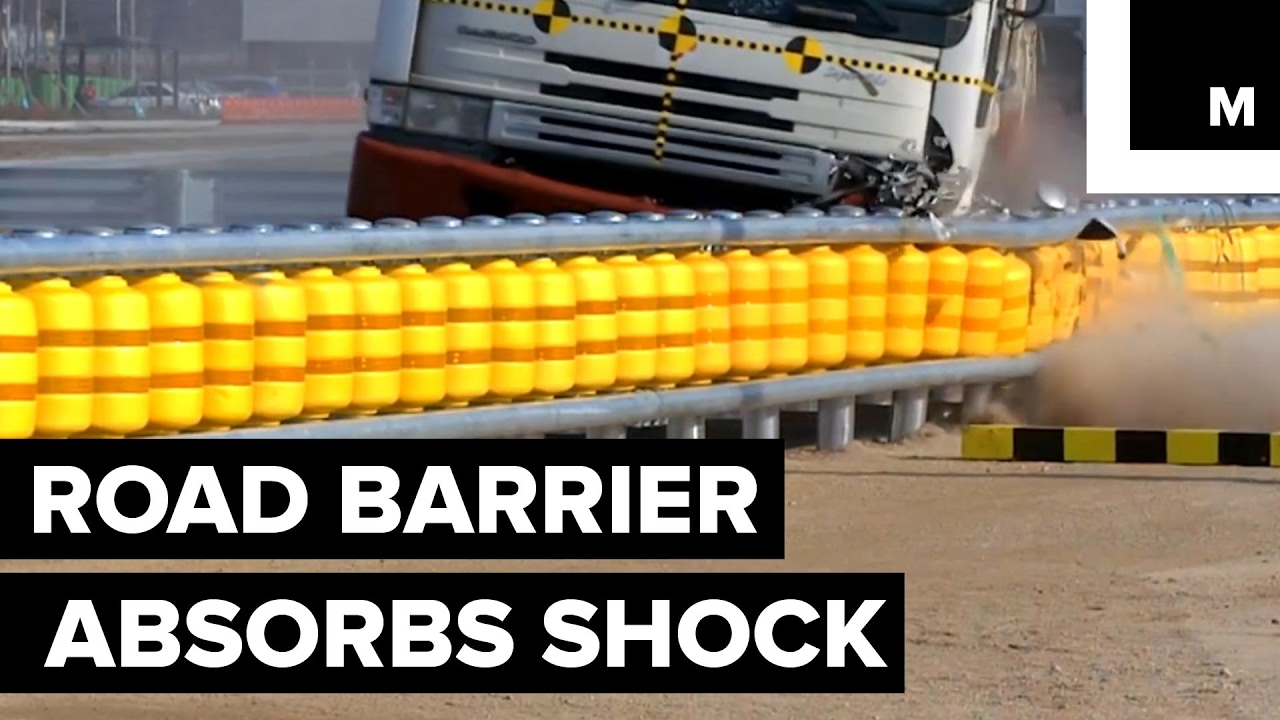Barrier: (37, 242, 1025, 393)
